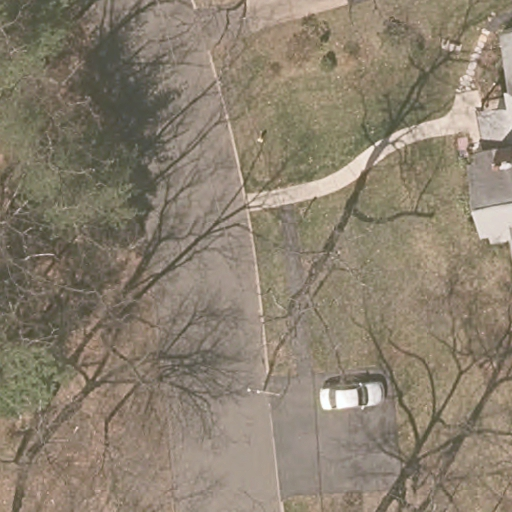DT: (246, 371, 283, 398)
